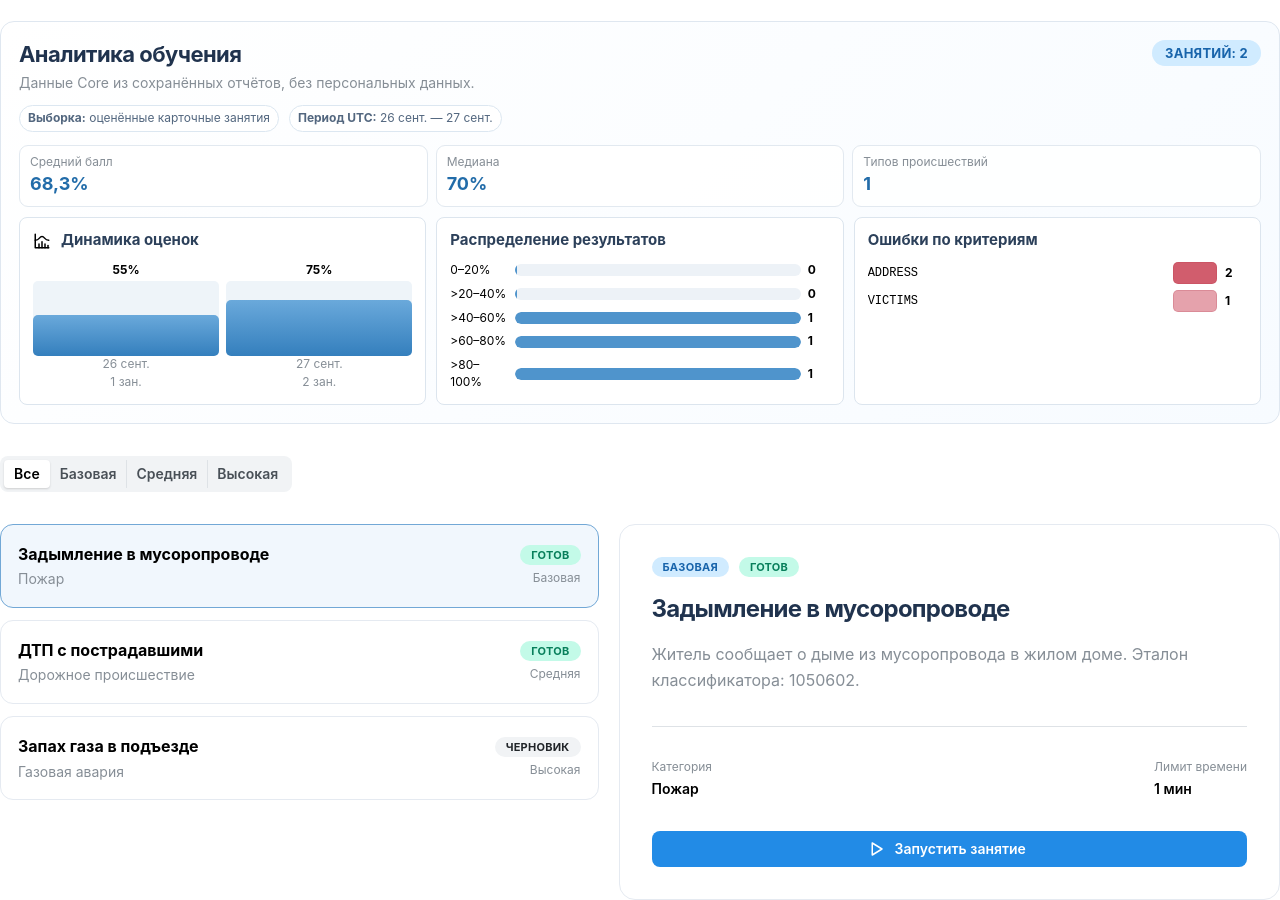
Test case: teacher scenario flow › uses polling as a fallback and shows the saved score
(page scrolled)
Expected: the heading "Задымление в мусоропроводе" is shown, x1=652 y1=594 x2=1010 y2=622
Click the button "Запустить занятие" at {"x": 949, "y": 849}, box x1=652 y1=831 x2=1247 y2=867
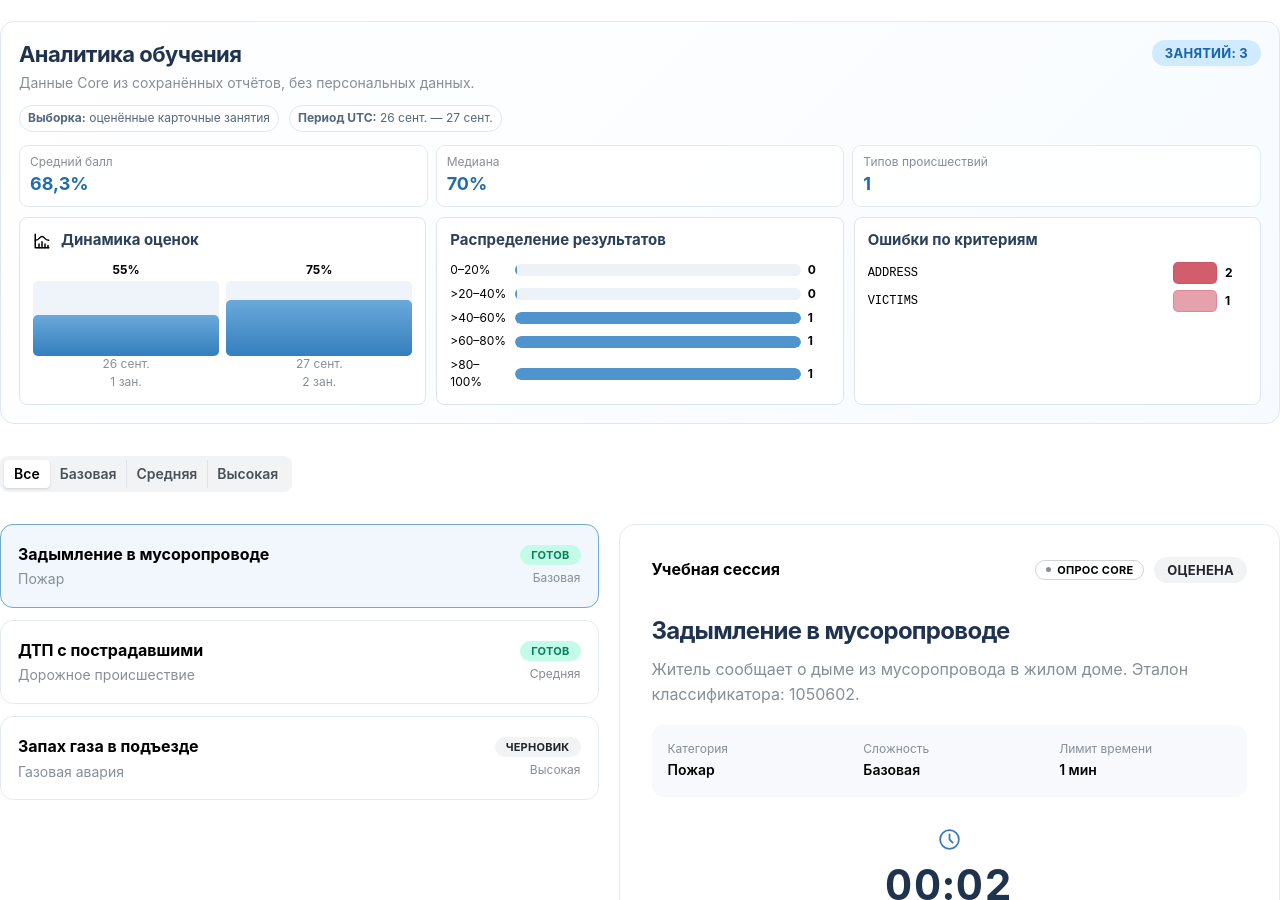
Result: the text "Оценена" is shown at x1=1167 y1=558 x2=1234 y2=582
Result: the text "Занятий: 3" is shown at x1=1165 y1=41 x2=1248 y2=65
